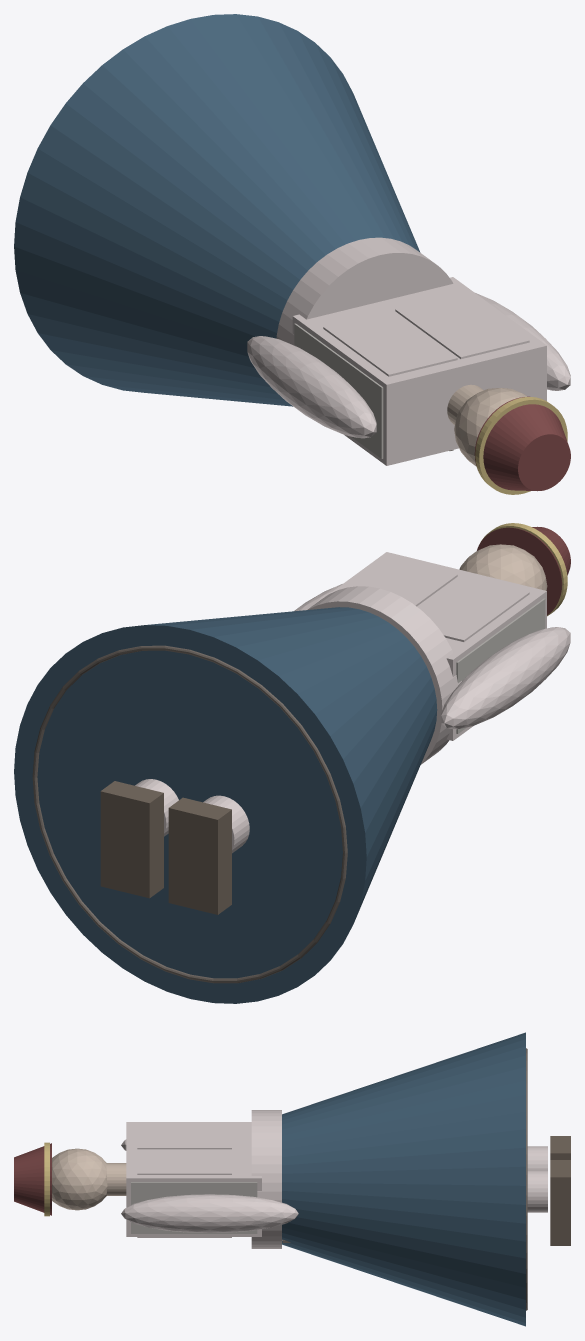
File: MASTER_094_STAGE3_DETAIL.glb
3 renders of one model, top to bottom at view 1: azimuth 30°, elevation 25°; view 2: azimuth 150°, elevation 25°; view 3: azimuth 270°, elevation 25°, orthographic. The views are drawn at different scales.
Visible parts, largest first — view 1: slot_lower_main__fund_i_gjatë, slot_upper_inner__këmishë, slot_waist__brez, slot_upper_inner_sleeve_L, slot_headwear__hotoz, slot_upper_outer__jelek_R, slot_upper_outer__jelek_L, mannequin_torso, mannequin_head, slot_headwear_trim__hotoz_band, slot_upper_inner_sleeve_R, mannequin_neck; view 2: slot_lower_main__fund_i_gjatë, slot_footwear__opinga_R, slot_footwear__opinga_L, slot_upper_inner_sleeve_L, detail_skirt_hem, slot_waist__brez, slot_upper_outer__jelek_L, slot_upper_inner__këmishë, slot_upper_outer__jelek_R, slot_headwear__hotoz, mannequin_head, mannequin_torso (+3 smaller); view 3: slot_lower_main__fund_i_gjatë, slot_upper_inner_sleeve_R, slot_upper_inner__këmishë, slot_waist__brez, mannequin_head, slot_upper_outer__jelek_R, slot_upper_outer__jelek_L, mannequin_torso, slot_headwear__hotoz, slot_footwear__opinga_R, slot_legwear__çorape_R, mannequin_neck (+4 smaller).
Boxes of the visible parts, x1,y1,x2,y2 form: slot_lower_main__fund_i_gjatë: [14, 14, 420, 406]; slot_upper_inner__këmishë: [292, 277, 546, 465]; slot_waist__brez: [276, 237, 453, 346]; slot_upper_inner_sleeve_L: [247, 336, 376, 438]; slot_headwear__hotoz: [474, 396, 570, 491]; slot_upper_outer__jelek_R: [395, 292, 529, 358]; slot_upper_outer__jelek_L: [323, 310, 457, 376]; mannequin_torso: [294, 323, 383, 458]; mannequin_head: [454, 388, 527, 466]; slot_headwear_trim__hotoz_band: [475, 397, 567, 494]; slot_upper_inner_sleeve_R: [475, 293, 570, 390]; mannequin_neck: [447, 384, 483, 424]; slot_lower_main__fund_i_gjatë: [14, 607, 437, 1003]; slot_footwear__opinga_R: [100, 781, 163, 898]; slot_footwear__opinga_L: [168, 797, 231, 914]; slot_upper_inner_sleeve_L: [441, 627, 570, 729]; detail_skirt_hem: [32, 645, 347, 983]; slot_waist__brez: [307, 586, 461, 764]; slot_upper_outer__jelek_L: [418, 575, 529, 641]; slot_upper_inner__këmishë: [328, 552, 546, 740]; slot_upper_outer__jelek_R: [349, 558, 457, 606]; slot_headwear__hotoz: [477, 526, 570, 615]; mannequin_head: [459, 544, 547, 590]; mannequin_torso: [456, 598, 545, 733]; slot_lower_main__fund_i_gjatë: [282, 1032, 525, 1326]; slot_upper_inner_sleeve_R: [121, 1194, 298, 1232]; slot_upper_inner__këmishë: [126, 1122, 261, 1236]; slot_waist__brez: [251, 1110, 281, 1248]; mannequin_head: [52, 1148, 107, 1210]; slot_upper_outer__jelek_R: [137, 1149, 231, 1237]; slot_upper_outer__jelek_L: [137, 1124, 231, 1149]; mannequin_torso: [131, 1182, 257, 1233]; slot_headwear__hotoz: [14, 1143, 51, 1215]; slot_footwear__opinga_R: [550, 1160, 570, 1245]; slot_legwear__çorape_R: [527, 1170, 547, 1212]; mannequin_neck: [106, 1163, 126, 1195].
Bounding box in the file's own units: 0.9316 × 0.9316 × 1.76.
